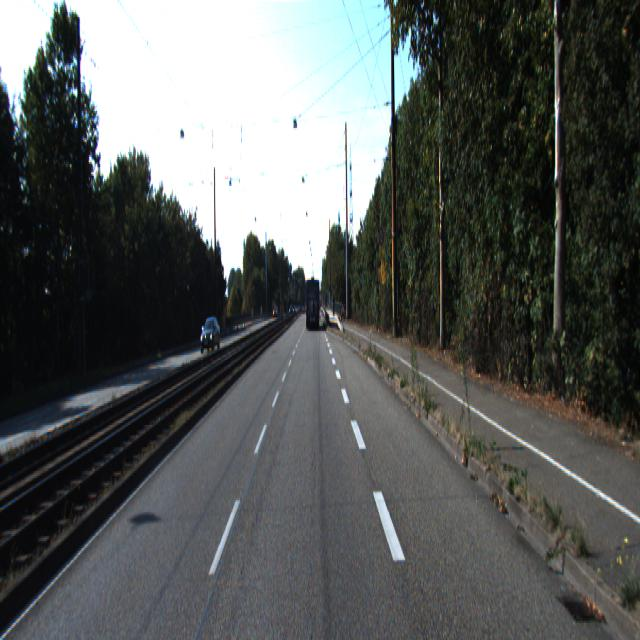Car: (198, 317, 220, 353), (306, 278, 320, 330)
